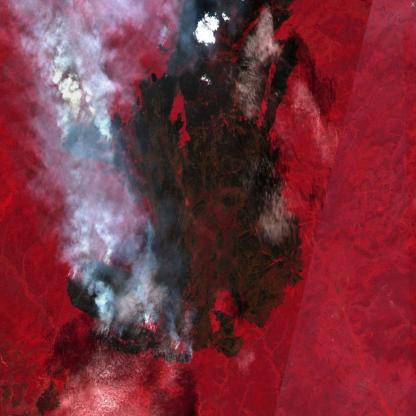fire: (65, 254, 194, 366), (56, 96, 124, 178)
